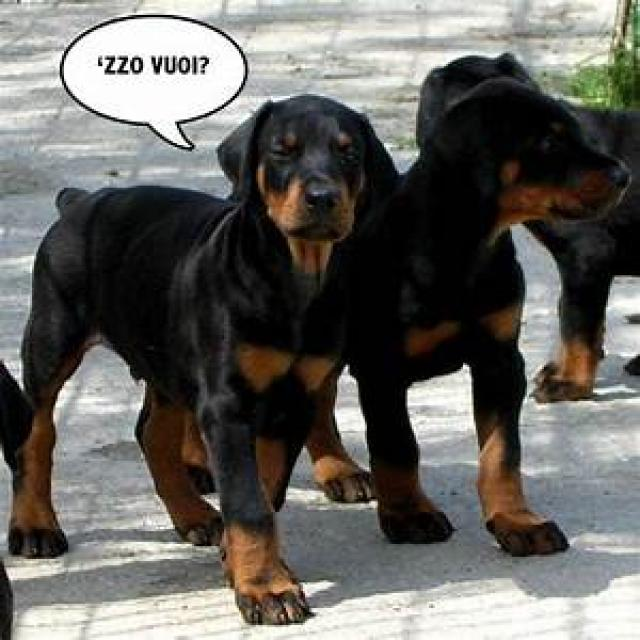animal: (0, 96, 403, 623), (314, 101, 624, 528)
